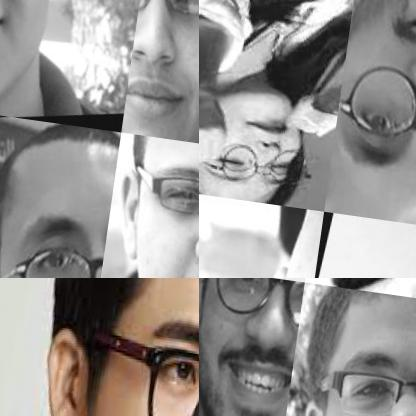glasses: (79, 310, 198, 415), (199, 121, 321, 203), (332, 56, 415, 170), (115, 133, 198, 245), (0, 207, 107, 277), (316, 340, 415, 415), (201, 278, 304, 330), (134, 0, 198, 46)
